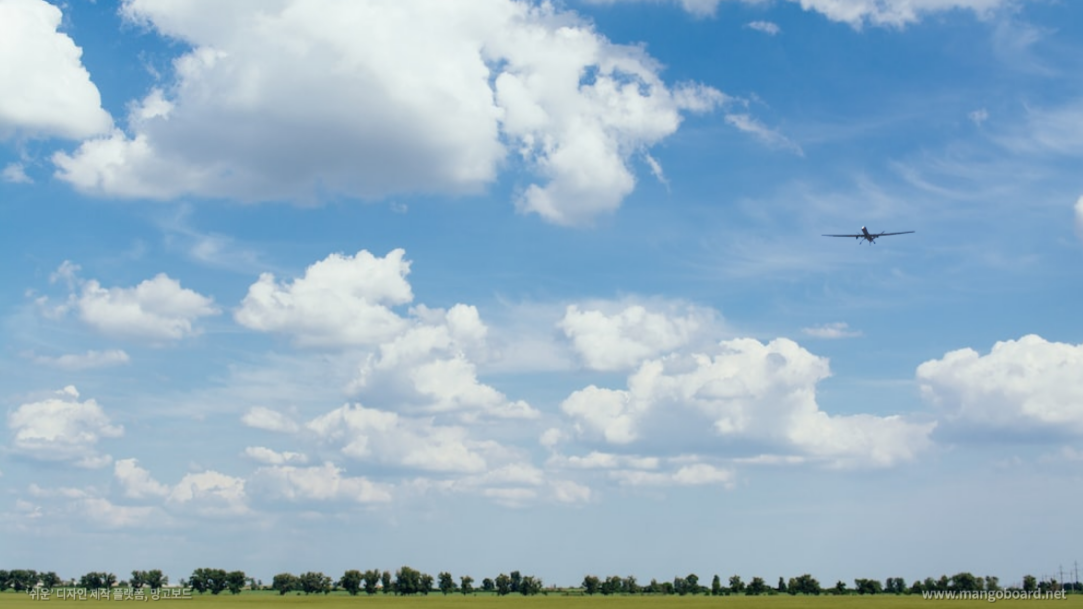military drone: (821, 225, 915, 245)
